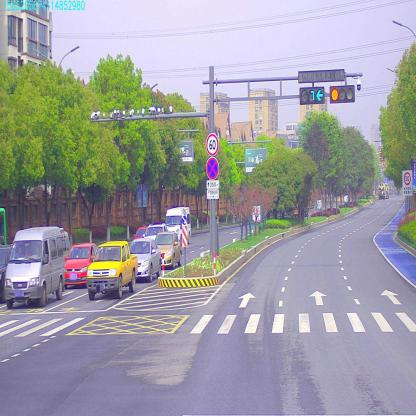traffic-light: (300, 87, 324, 102), (329, 88, 354, 101)
